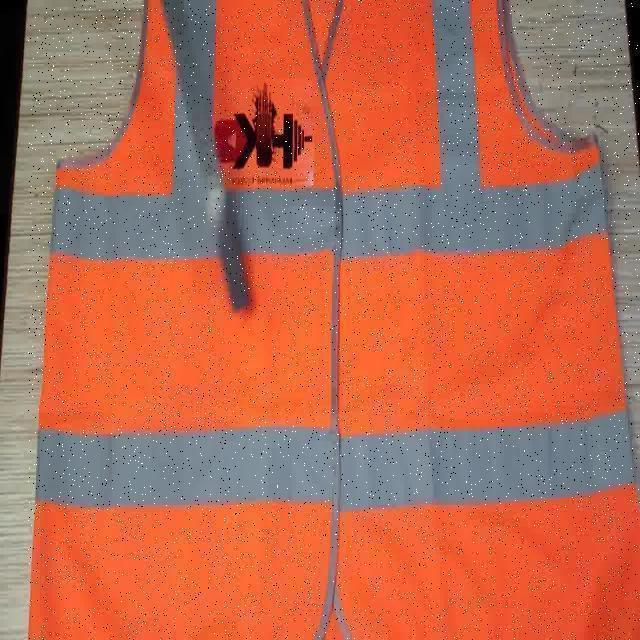safety_vest: (28, 0, 640, 640)
